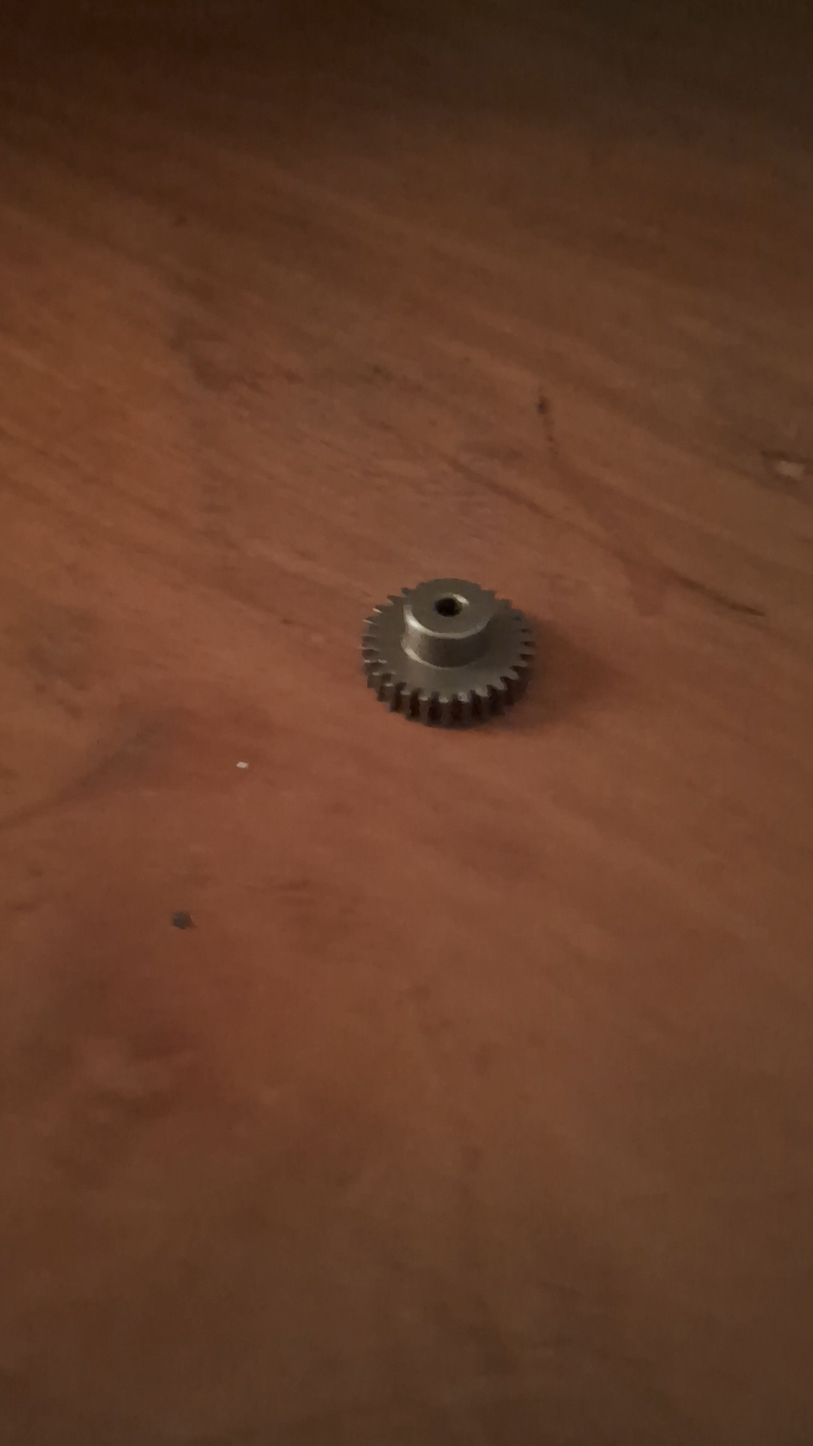spur gear: (362, 579, 533, 726)
